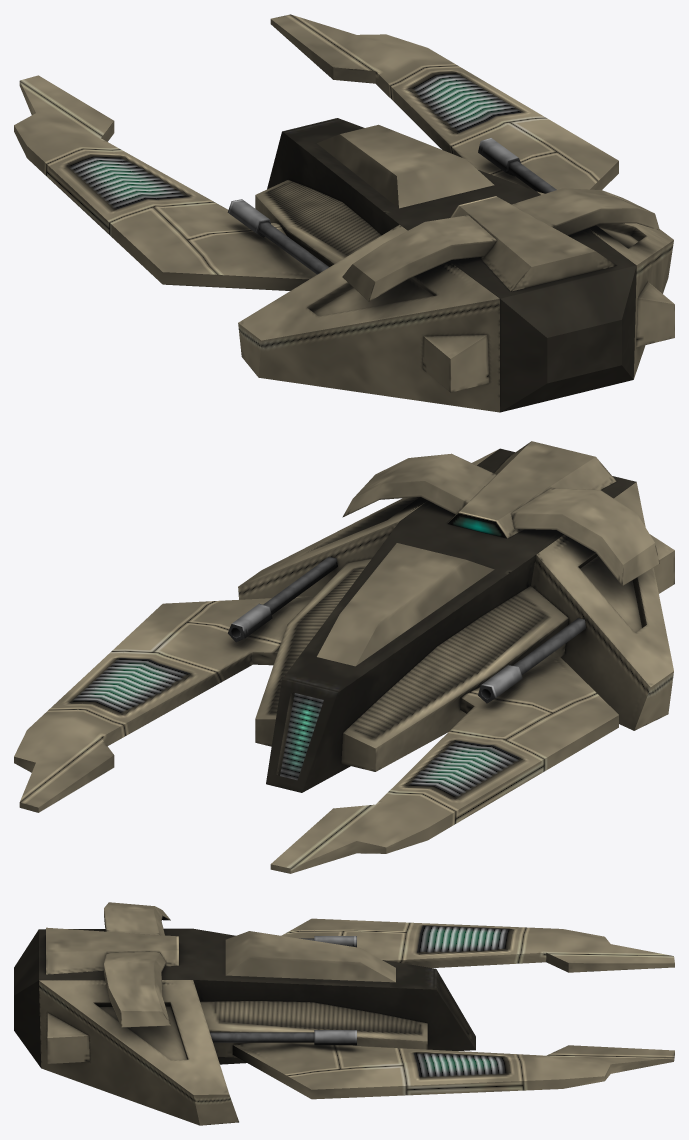
Rendered from Spaceship.fbx.
3 renders of one model, top to bottom at view 1: azimuth 30°, elevation 25°; view 2: azimuth 150°, elevation 25°; view 3: azimuth 270°, elevation 25°, orthographic. The views are drawn at different scales.
Visible parts, largest first — view 1: AlienShip_Type1; view 2: AlienShip_Type1; view 3: AlienShip_Type1.
Part boxes in pixels (x1,y1,x2,y2): AlienShip_Type1: [14, 14, 674, 412]; AlienShip_Type1: [14, 441, 674, 873]; AlienShip_Type1: [14, 902, 674, 1125].
Size of the model in its own units: 5.34 by 1.64 by 8.71.
1 material, 1 textured.
